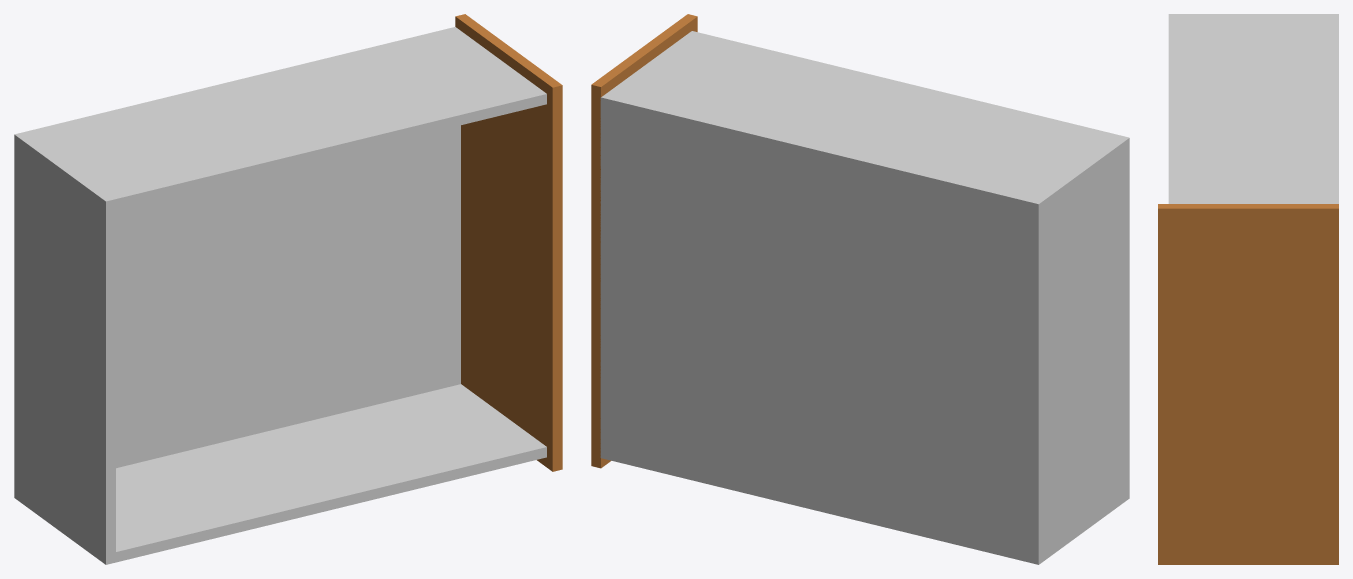
Rendered from ROOM610-AUDIO_SHELF-BODYSET5_link_mesh.dae.
3 views of the same model, side by side, from view 1: azimuth 30°, elevation 25°; view 2: azimuth 150°, elevation 25°; view 3: azimuth 270°, elevation 25° (orthographic). The views are drawn at different scales.
Parts seen in each view (by area): view 1: ROOM610-AUDIO_SHELF-BODYSET5_link (×2); view 2: ROOM610-AUDIO_SHELF-BODYSET5_link (×2); view 3: ROOM610-AUDIO_SHELF-BODYSET5_link (×2).
Boxes of the visible parts, <box> form: ROOM610-AUDIO_SHELF-BODYSET5_link (×2): <box>14,14,562,564</box>; ROOM610-AUDIO_SHELF-BODYSET5_link (×2): <box>591,14,1129,564</box>; ROOM610-AUDIO_SHELF-BODYSET5_link (×2): <box>1158,14,1338,564</box>.
Size of the model in its own units: 0.4545 by 0.37 by 0.17.
